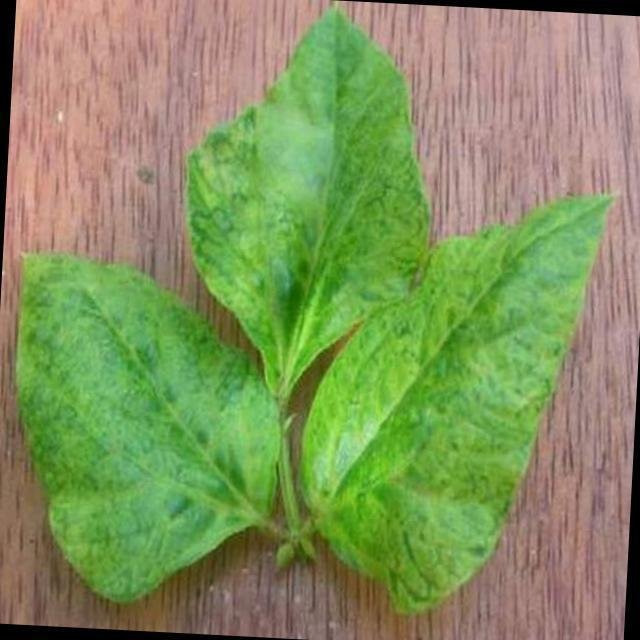Mosaic Virus: (297, 179, 640, 619), (4, 249, 288, 597), (170, 0, 428, 368)
